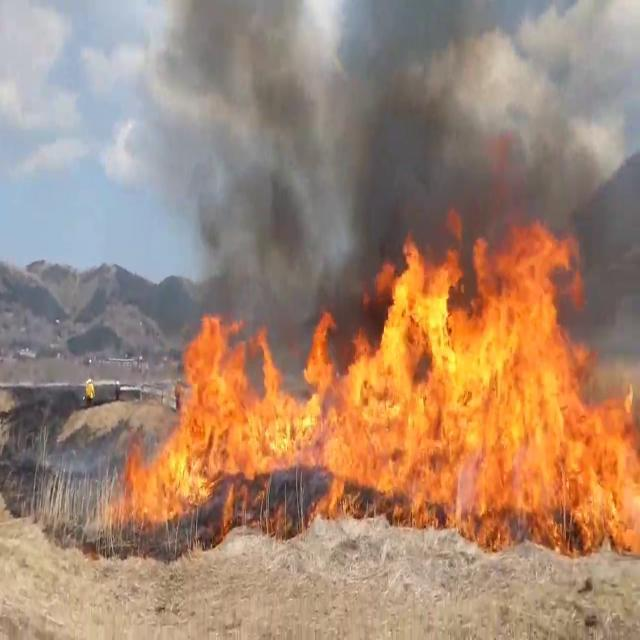Fire: (120, 222, 638, 547)
Smoke: (137, 1, 633, 306)
